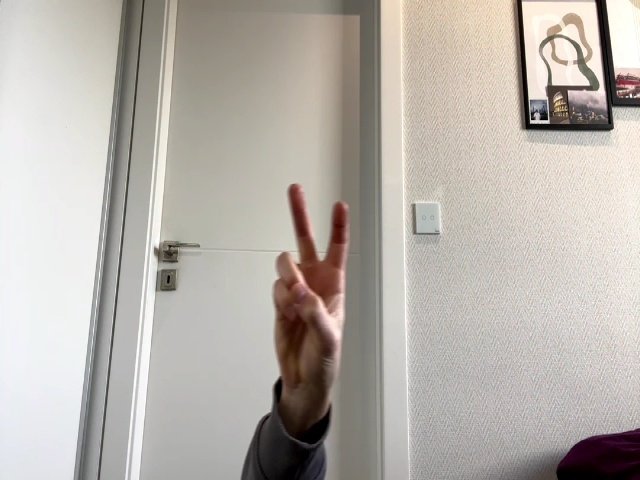H: (275, 183, 351, 388)
